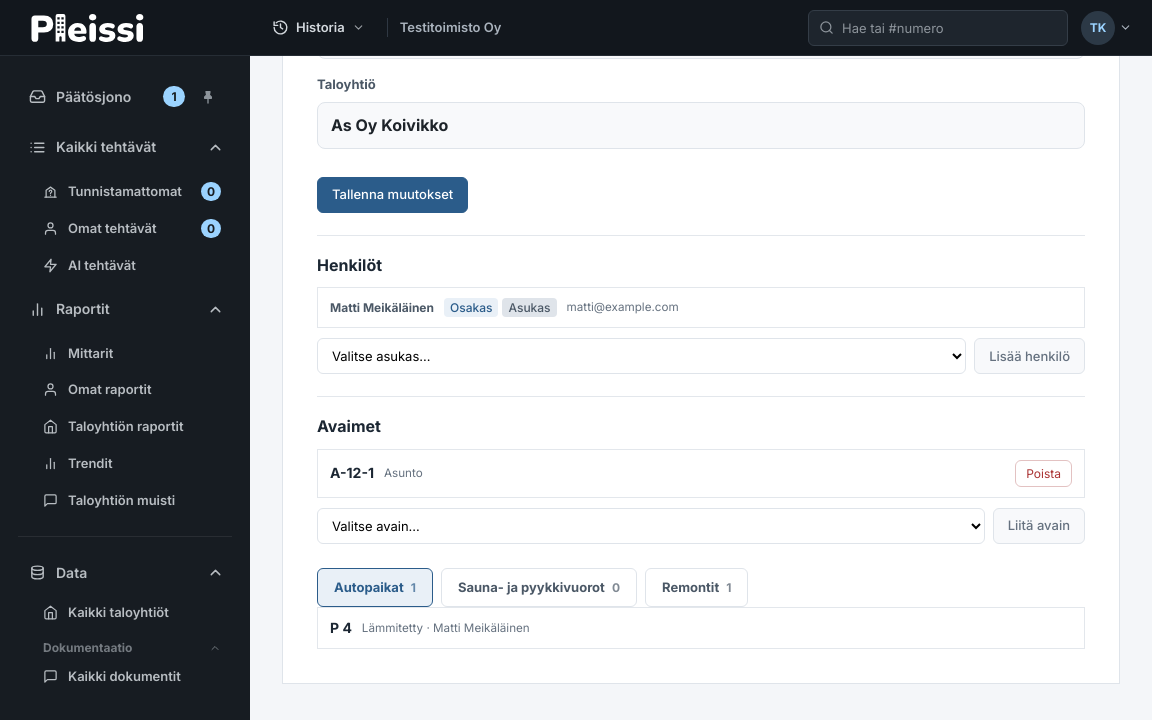
Test case: sovellus › asunnon tietueella ovat henkilöt rooleineen, avaimet ja väliotsikot
The width and height of the screenshot is (1152, 720).
(page scrolled)
Check: the text "Osakas" is shown, box [444,298,498,317]
Check: the text "A-12-1" is shown, box [330,463,374,483]
Click the tab "Remontit 1" at coordinates (697, 587), box [645,568,748,607]
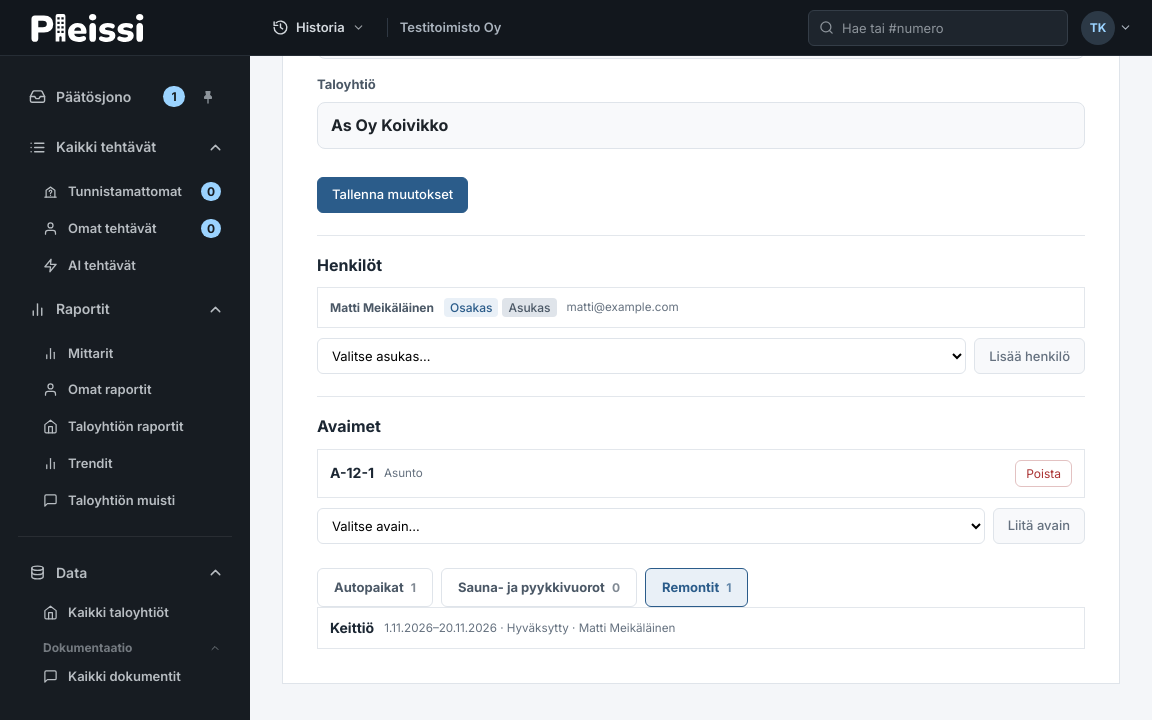
Check: the text "Keittiö" is shown, box [330,618,374,638]
